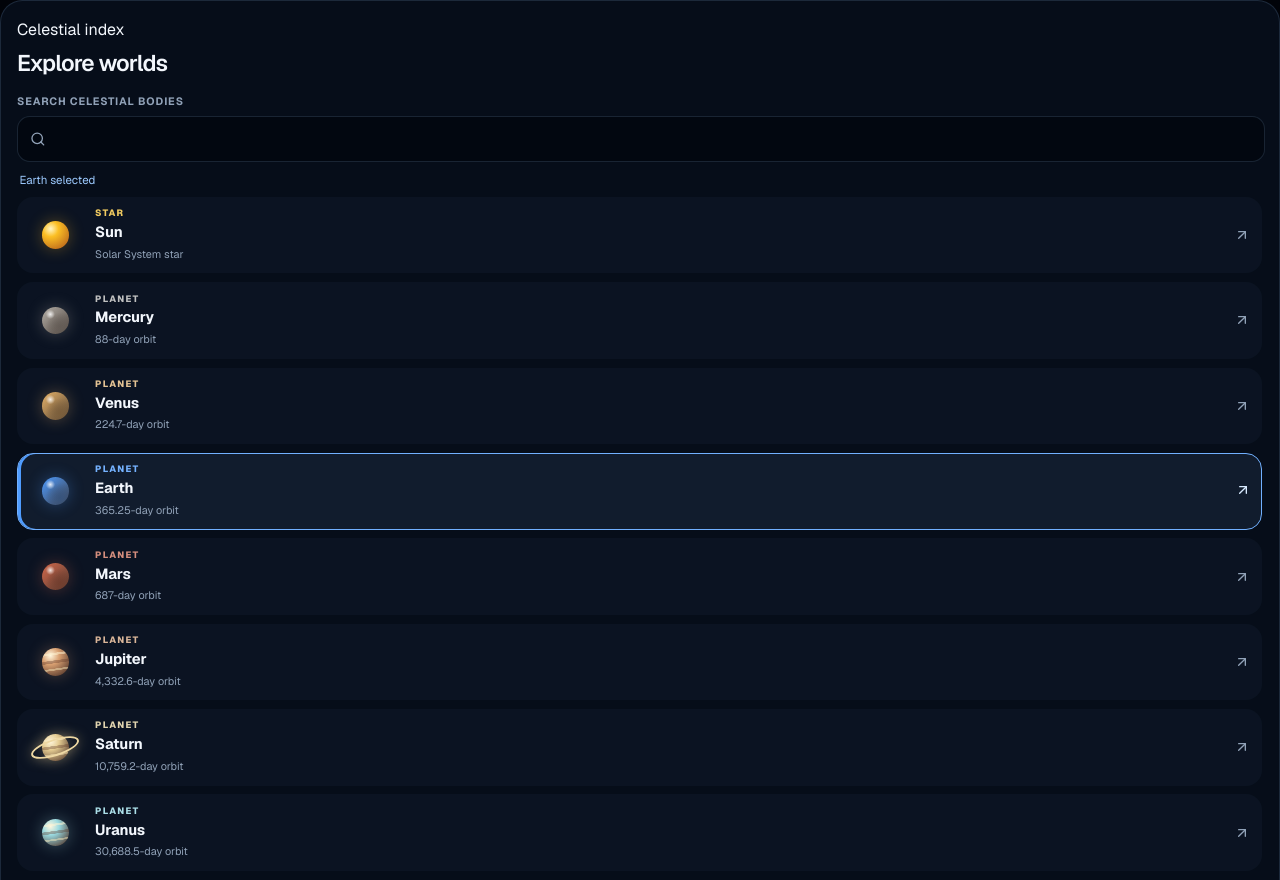
Test: ExplorePanel › shows a useful state for unmatched searches
The image size is (1280, 880).
Type "unknown world" into the search field labelled "Search celestial bodies" at (653, 139), box 54,117 -> 1252,161
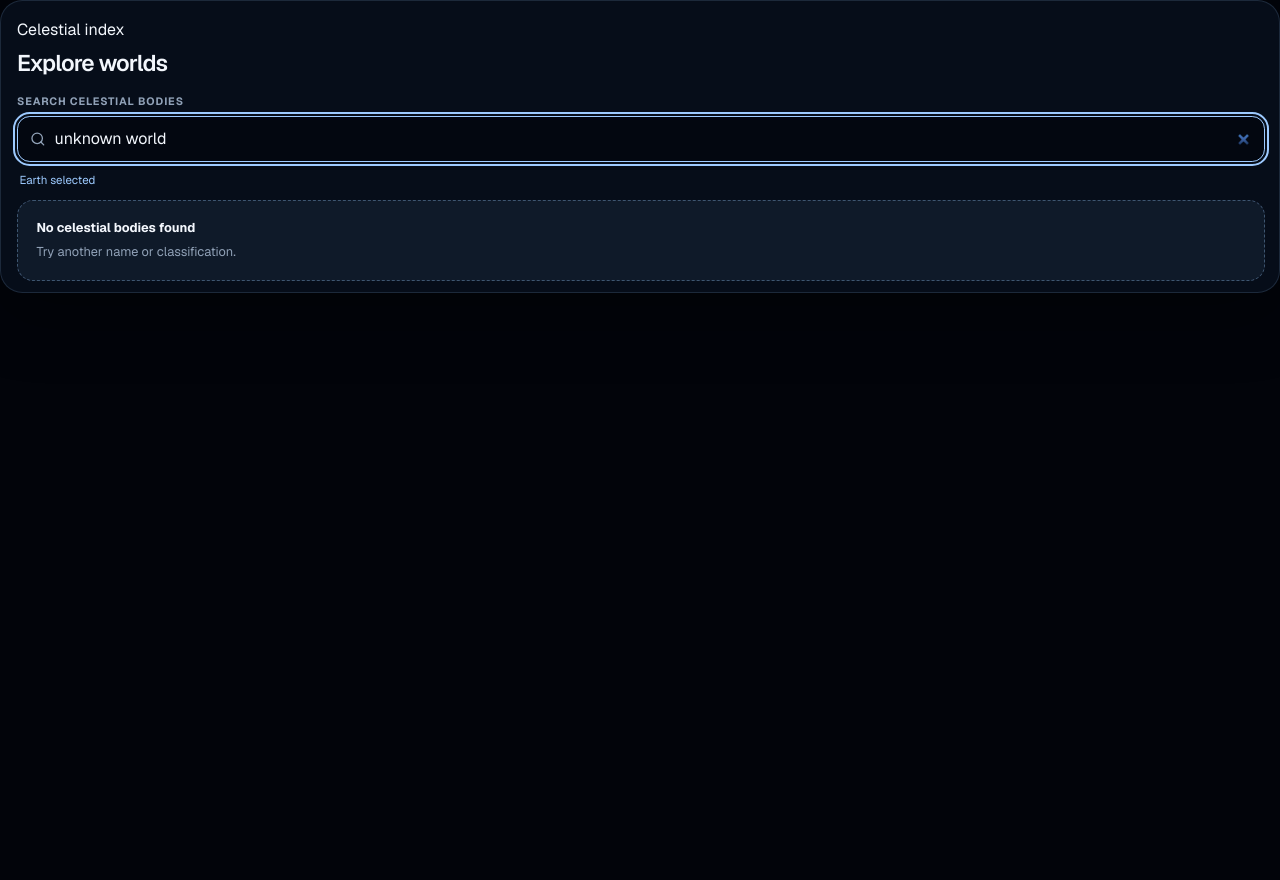
Expected: the text "No celestial bodies found" is shown, 36,219 -> 195,236
Expected: the text "Try another name or classification." is shown, 36,243 -> 236,260
